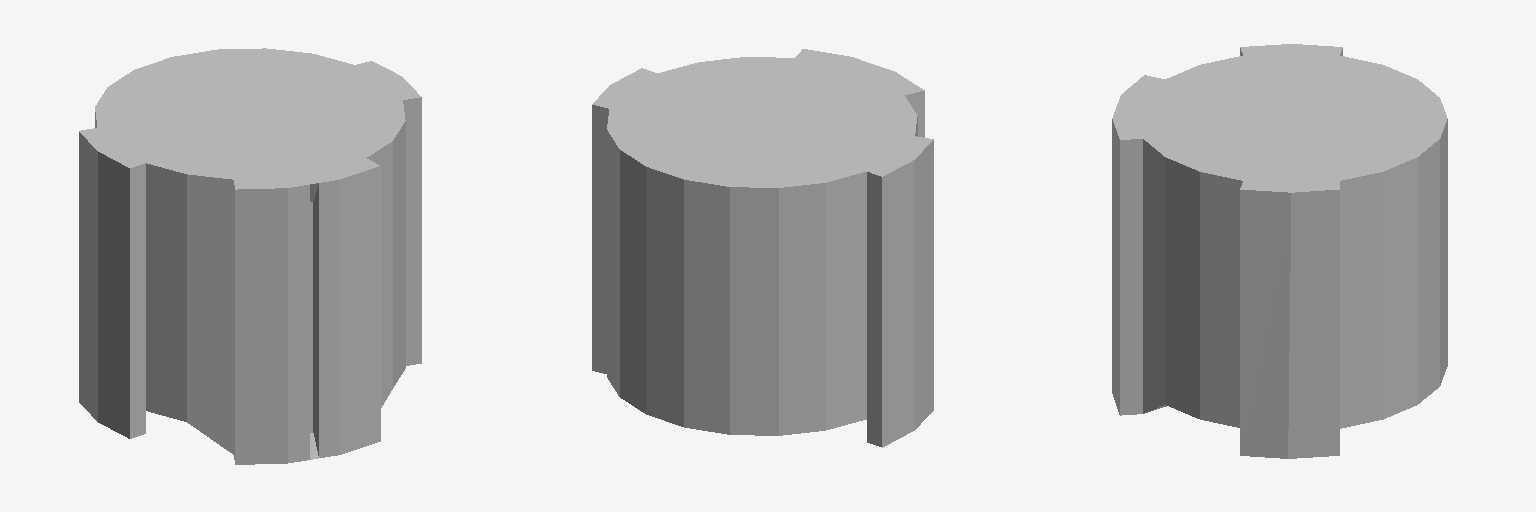
The model's file is Platform12.obj.
The picture shows the model from 3 angles: view 1: azimuth 30°, elevation 25°; view 2: azimuth 150°, elevation 25°; view 3: azimuth 270°, elevation 25°; orthographic projection.
Visible parts, largest first — view 1: pCylinder27; view 2: pCylinder27; view 3: pCylinder27.
Boxes of the visible parts, x1,y1,x2,y2 form: pCylinder27: [79, 48, 421, 464]; pCylinder27: [592, 49, 933, 447]; pCylinder27: [1112, 44, 1447, 458].
Size of the model in its own units: 7.3 by 6.29 by 6.95.